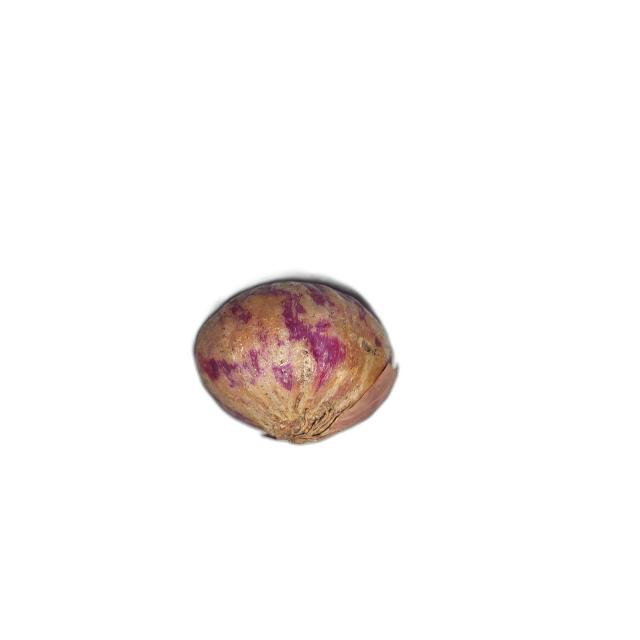onion: (195, 281, 400, 445)
